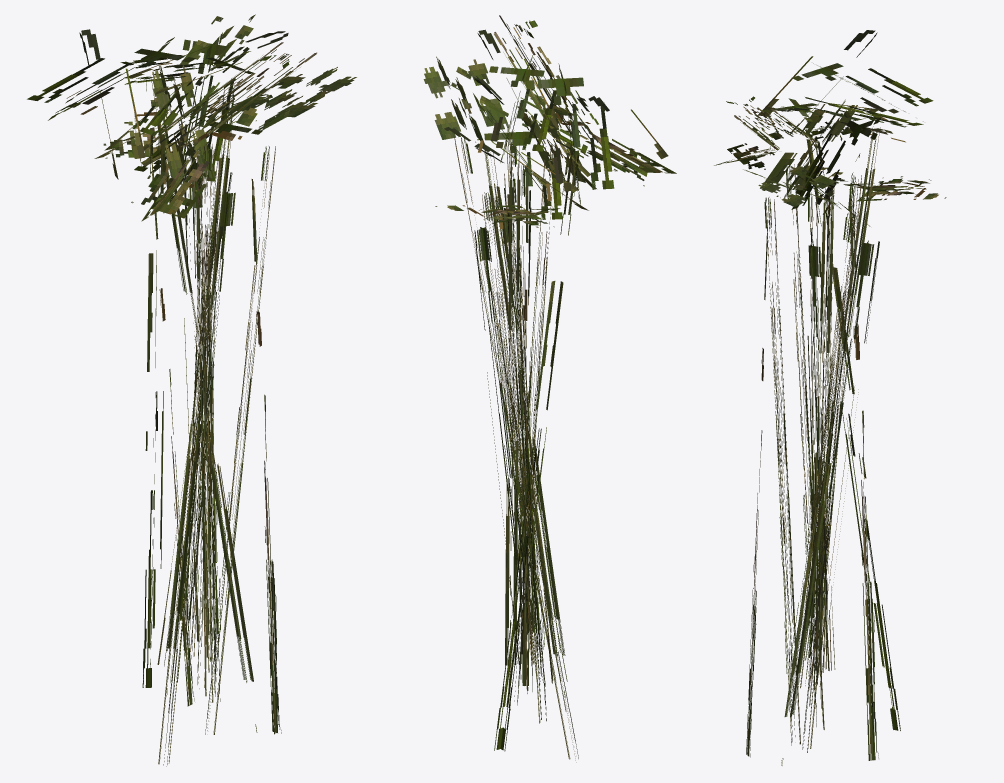
File: reed-grass-lod2.glb
The picture shows the model from 3 angles, left to right: view 1: azimuth 30°, elevation 25°; view 2: azimuth 150°, elevation 25°; view 3: azimuth 270°, elevation 25°; orthographic projection. The views are drawn at different scales.
Parts seen in each view (by area): view 1: impostor; view 2: impostor; view 3: impostor.
Part boxes in pixels (<box>): impostor: <box>27,14,356,766</box>; impostor: <box>423,15,676,762</box>; impostor: <box>714,30,946,765</box>.
Size of the model in its own units: 0.734 by 1.79 by 0.6541.
1 material, 1 textured.
